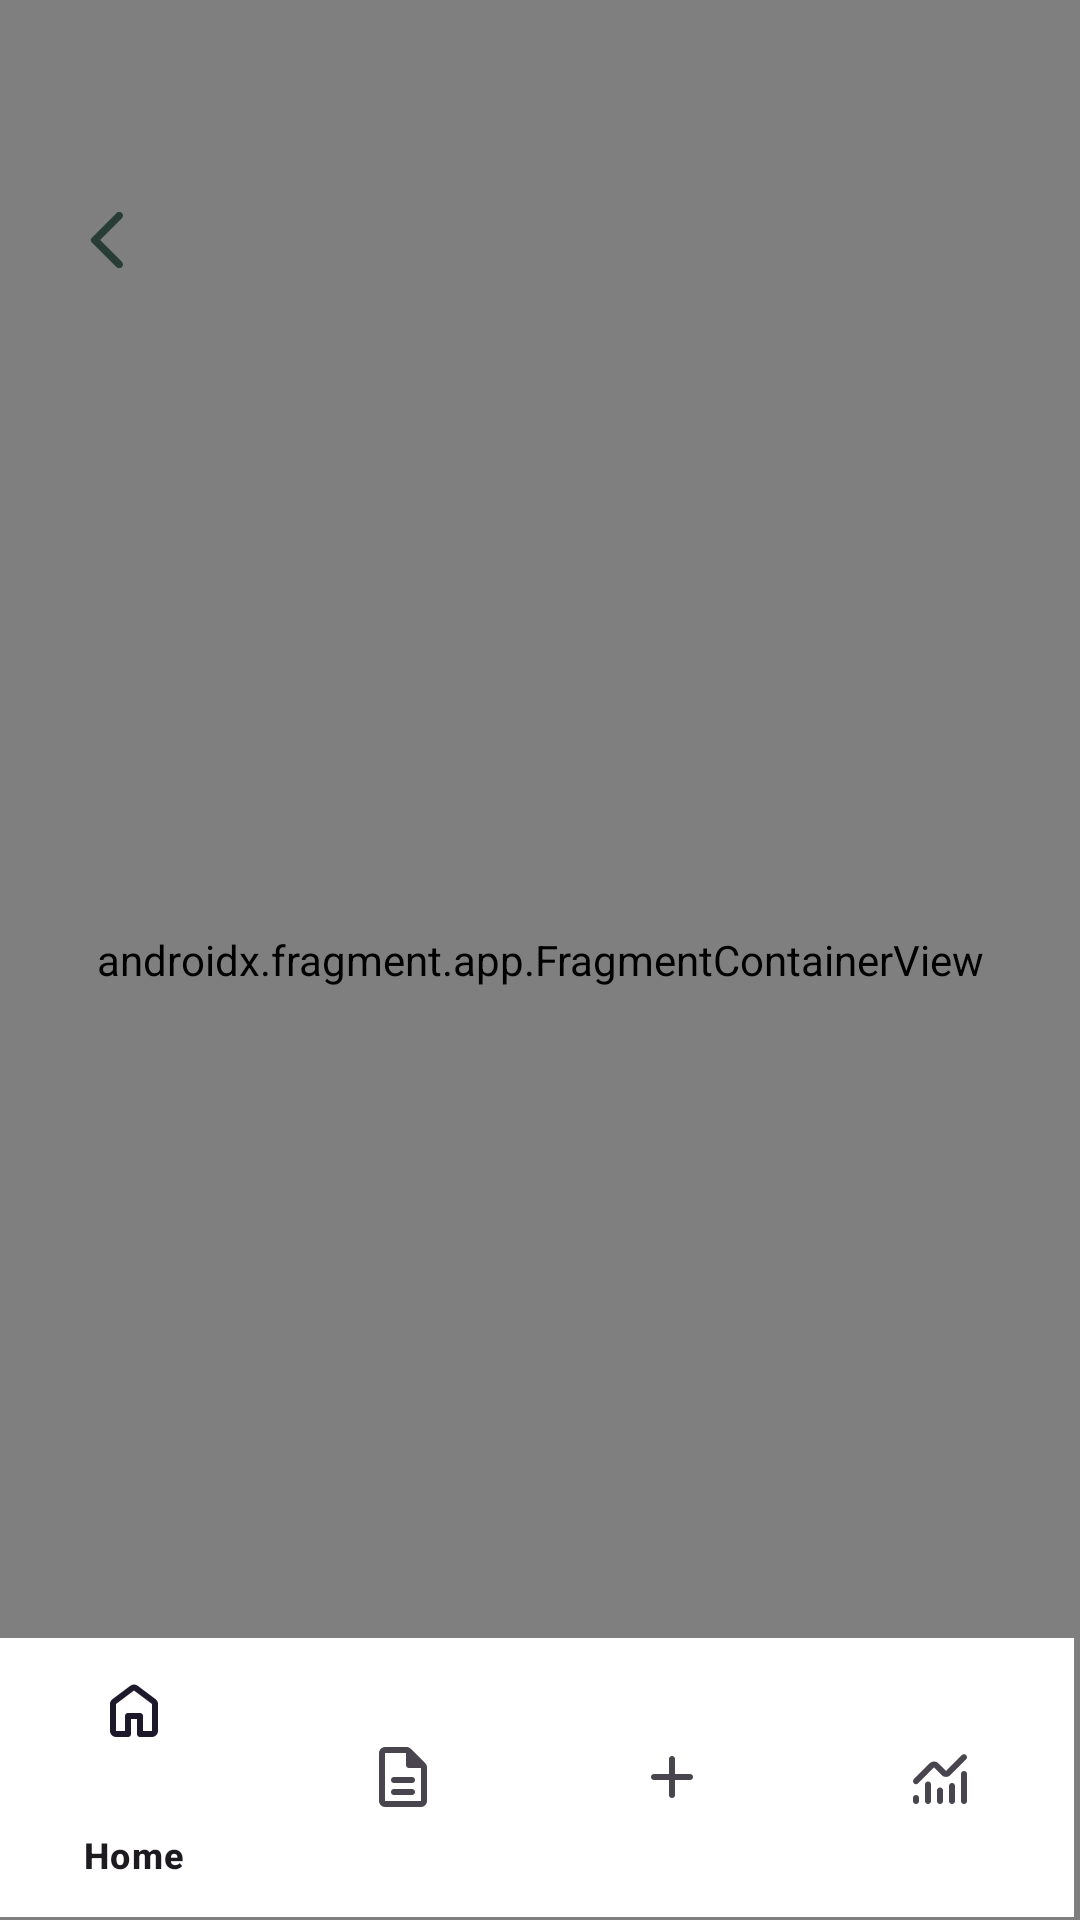

Where to tap for icons on this 1080*1920 app screen, as [x,y]:
back: [107,240]
